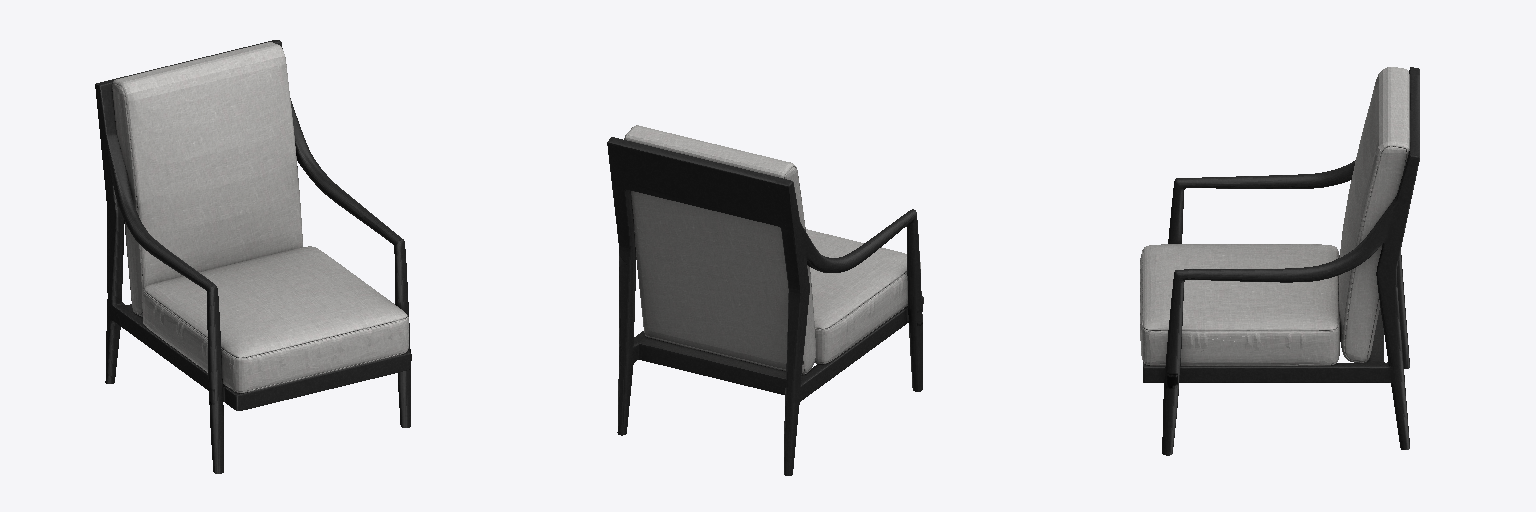
The picture shows the model from 3 angles: view 1: azimuth 30°, elevation 25°; view 2: azimuth 150°, elevation 25°; view 3: azimuth 270°, elevation 25°; orthographic projection.
Visible parts, largest first — view 1: solid_002, solid_001; view 2: solid_002, solid_001; view 3: solid_002, solid_001.
Part boxes in pixels (left/top/right/bottom): solid_002: left=112, top=42, right=408, bottom=392; solid_001: left=95, top=40, right=411, bottom=473; solid_002: left=624, top=125, right=920, bottom=374; solid_001: left=607, top=137, right=923, bottom=475; solid_002: left=1140, top=67, right=1409, bottom=365; solid_001: left=1143, top=67, right=1419, bottom=455.
Size of the model in its own units: 0.6782 by 0.9704 by 0.8122.
Materials: 1 (1 with a texture image).